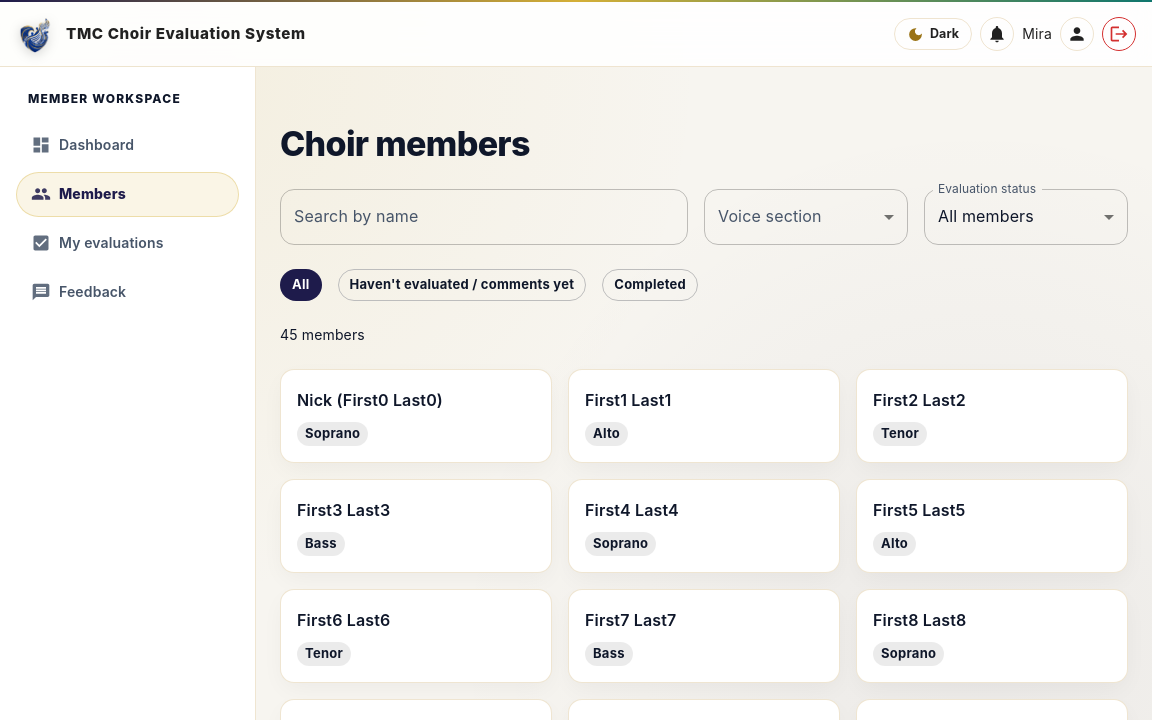
Test: MemberDirectoryPage › searches (debounced) and keeps the search in the URL
The image size is (1152, 720).
Expected: the heading "Nick (First0 Last0)" is shown, [297,390,443,410]
Type "first12" into the search field labelled "Search by name" at (484, 217), box [280,189,688,245]
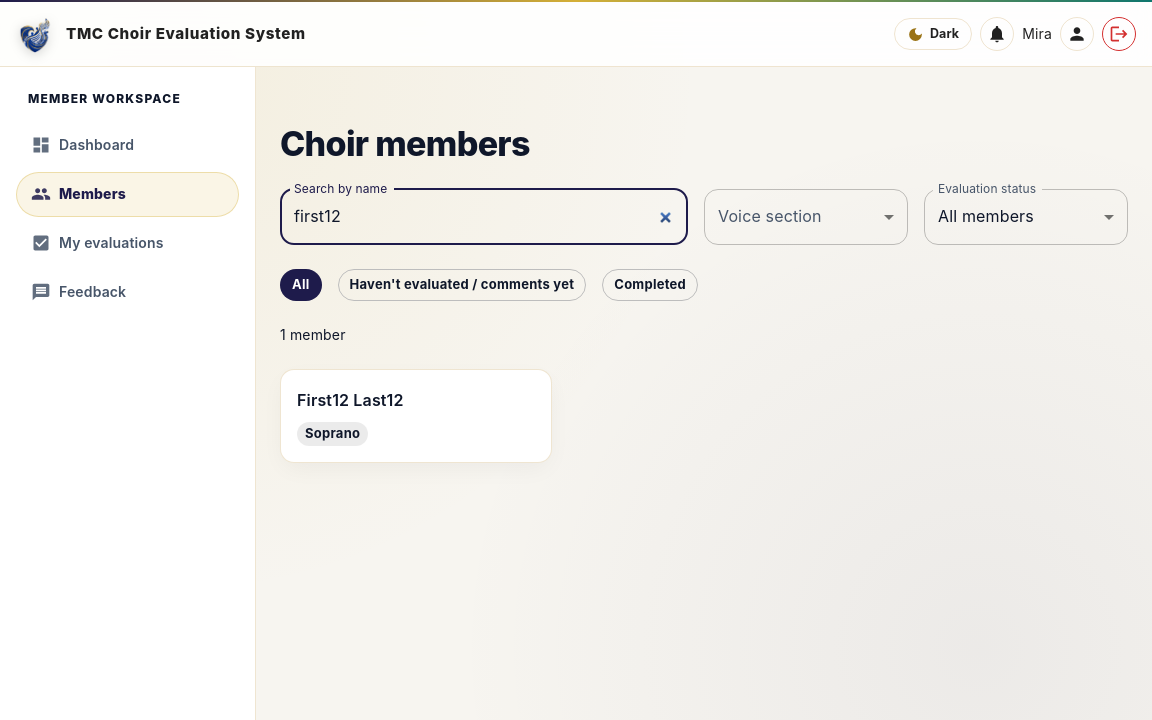
Expected: the heading "First12 Last12" is shown, [297,390,404,410]
Expected: the number of list items is 1, [280,369,552,463]
